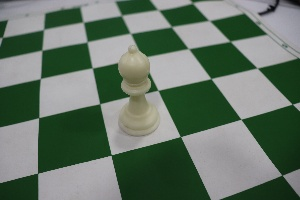white_bishop: (103, 32, 165, 142)
